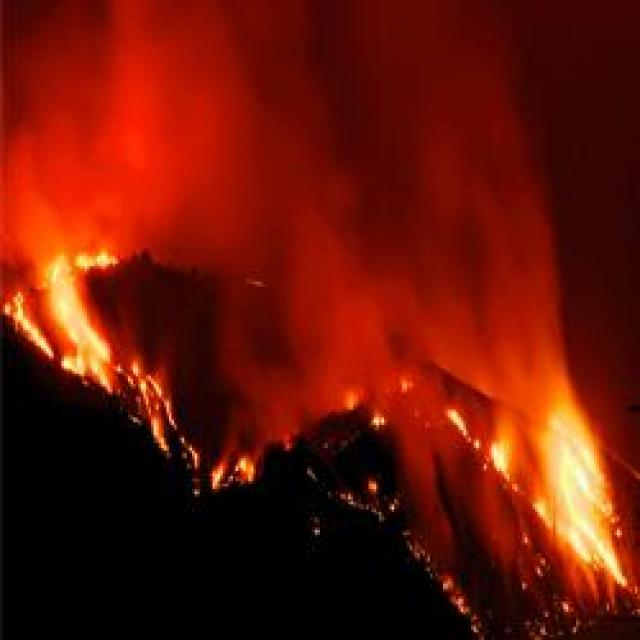fire: (542, 408, 618, 580), (34, 256, 113, 384)
smoke: (427, 152, 583, 410), (1, 53, 132, 254), (277, 213, 401, 411)
